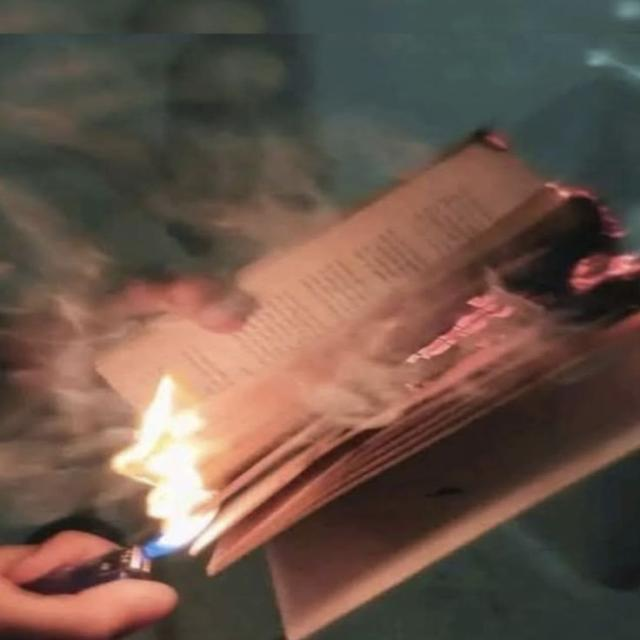fire: (109, 374, 218, 557)
